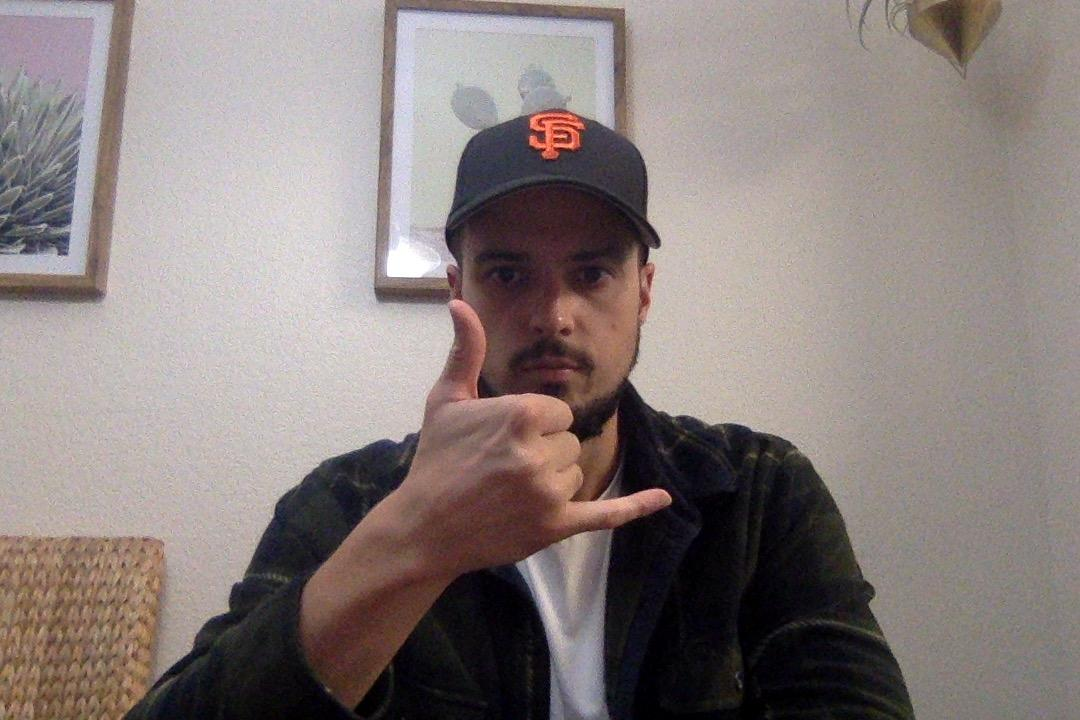Call-Me: (395, 288, 679, 582)
